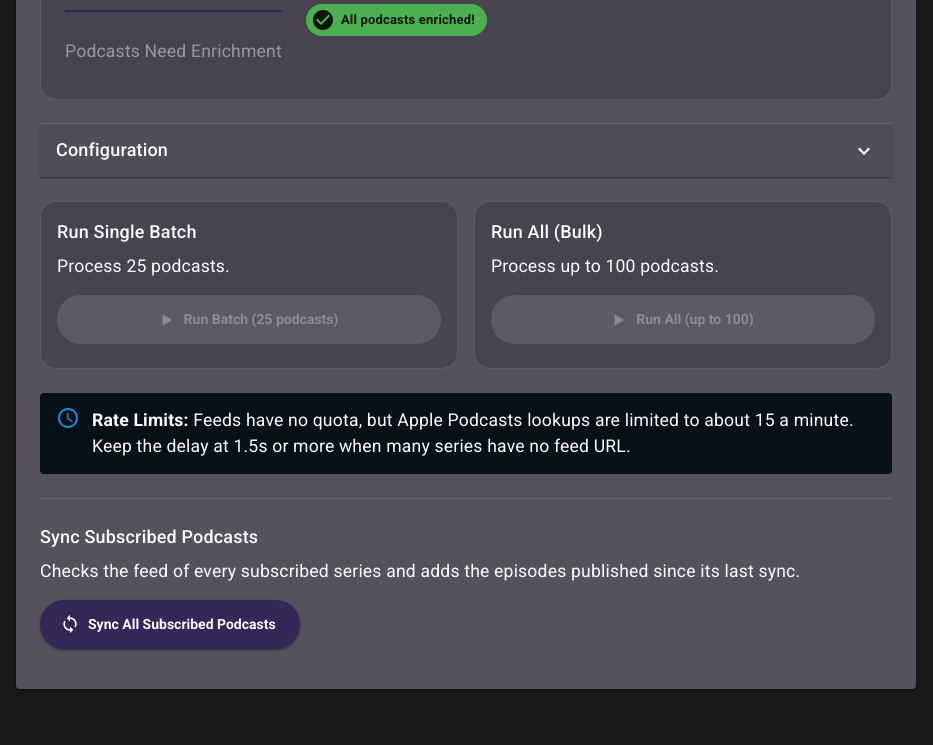
Test: BackgroundJobsPage › shows the result body's message when the sync-all run fails
(page scrolled)
Click the button "Sync All Subscribed Podcasts" at (170, 624), box [40,600,300,649]
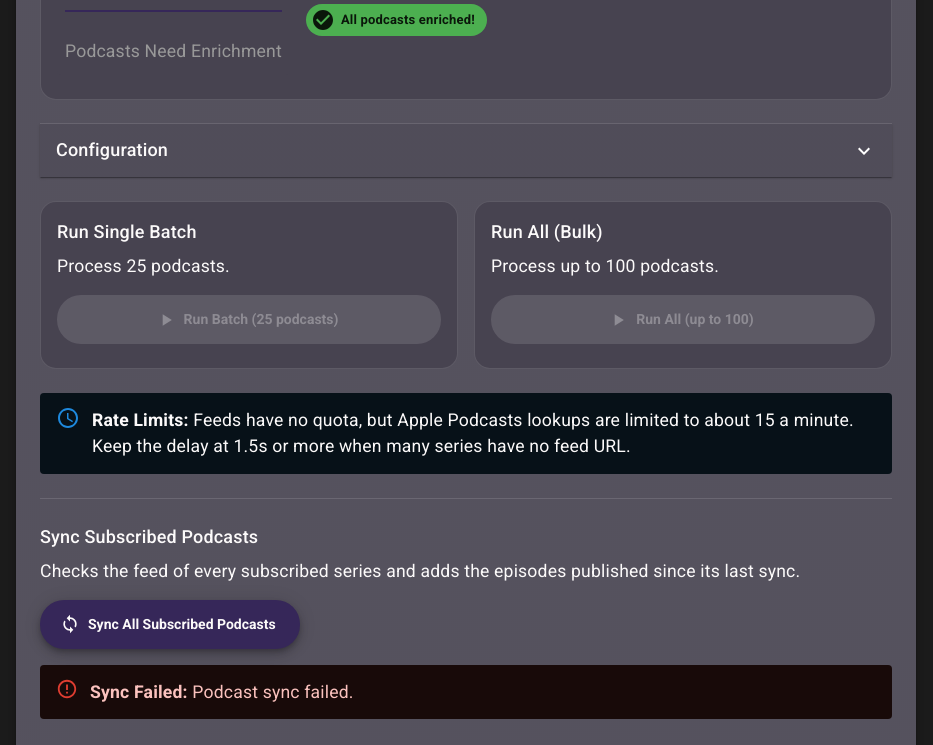
Expected: the text "Sync Failed: Podcast sync failed." is shown, [90,682,354,702]
